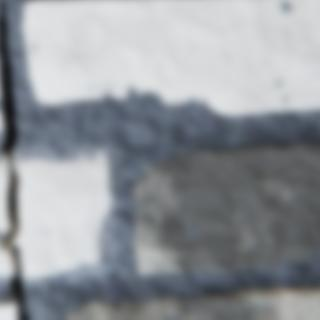brick: (22, 0, 319, 113), (133, 141, 319, 272), (64, 287, 319, 319), (0, 300, 17, 319), (0, 88, 4, 130)
broken_brick: (13, 152, 111, 275), (0, 155, 9, 239), (0, 247, 14, 274)
crack: (0, 0, 31, 319)
